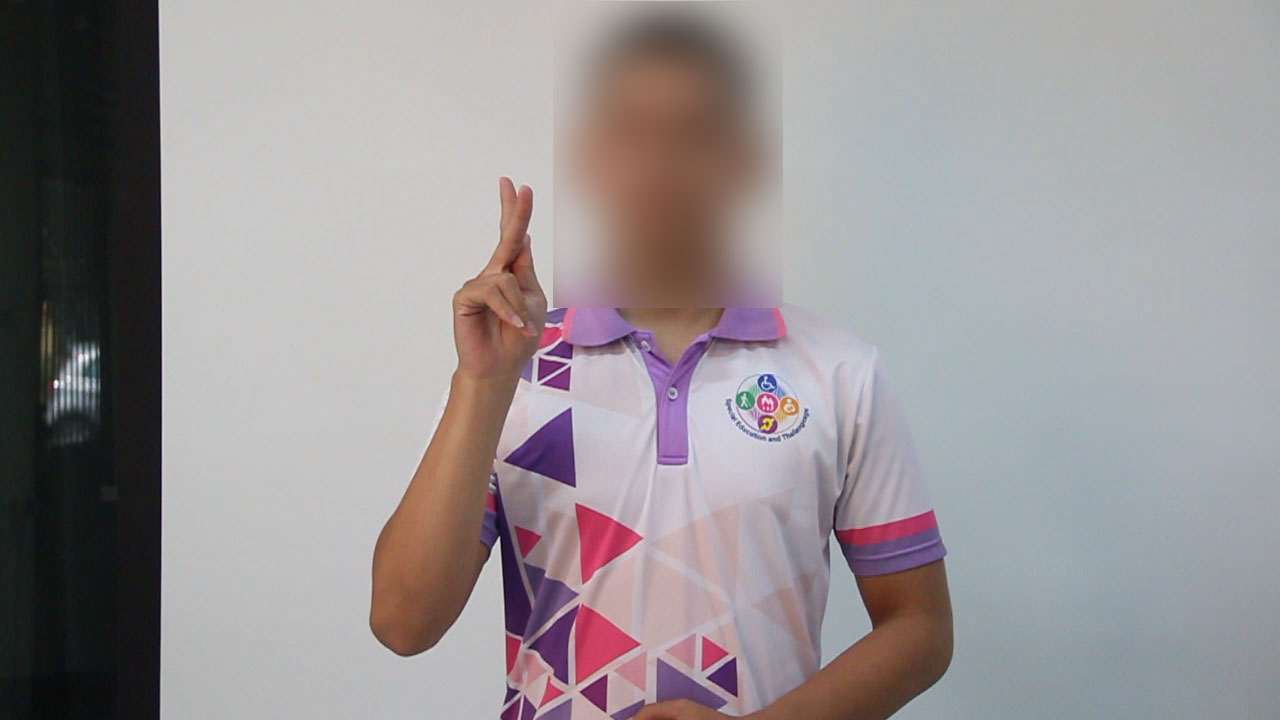ko: (392, 157, 585, 387)
